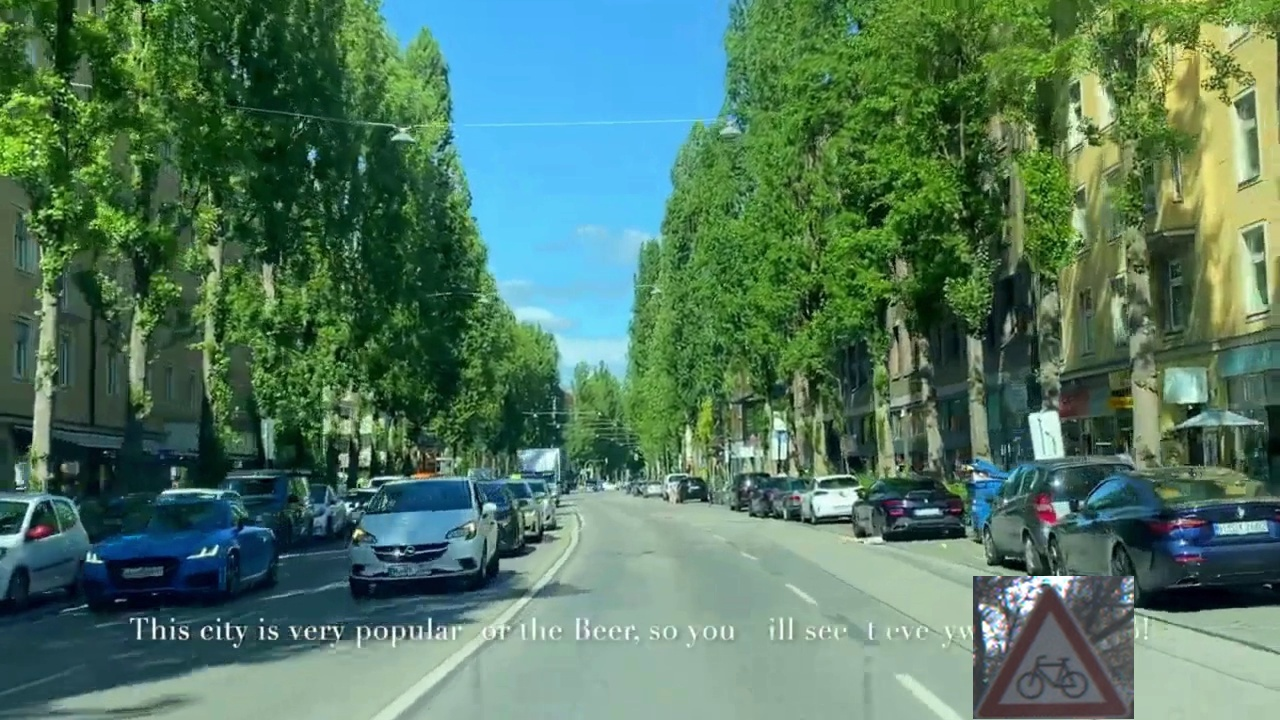Bicycles: (973, 576, 1134, 719)
